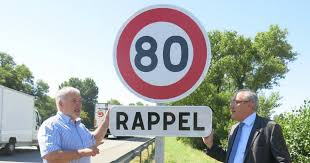Speed_limit_80km: (112, 6, 212, 103)
